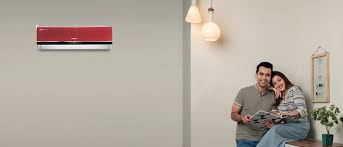ac: (33, 23, 115, 54)
